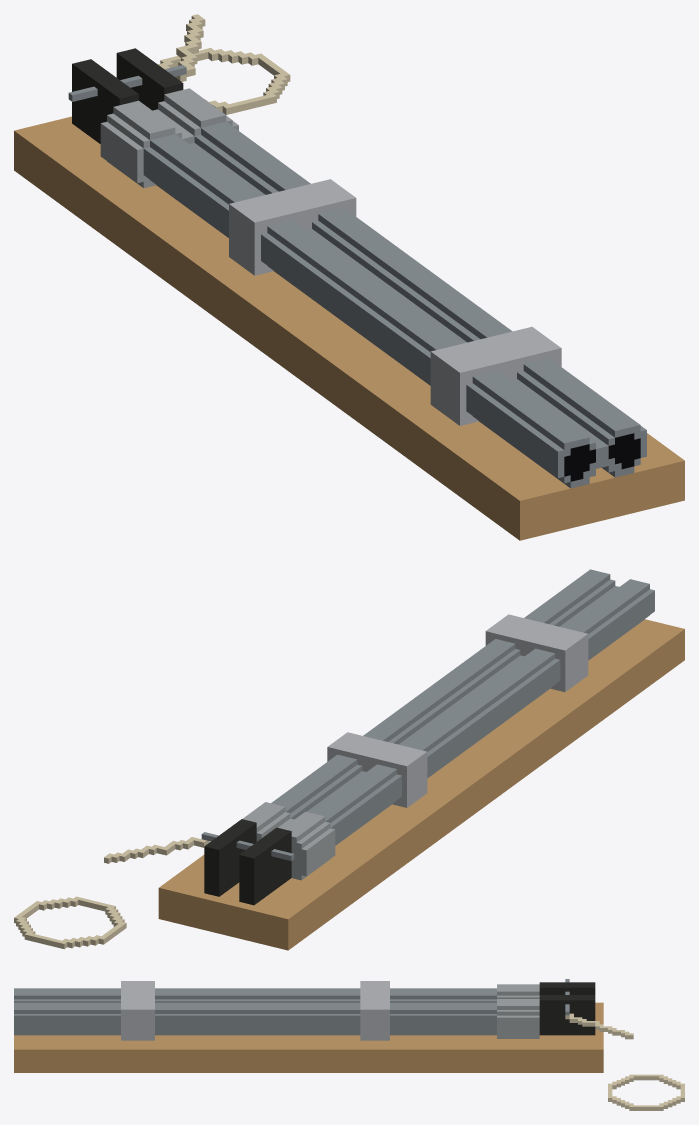
File: shotgun_trap.glb
The picture shows the model from 3 angles, top to bottom: view 1: azimuth 30°, elevation 25°; view 2: azimuth 150°, elevation 25°; view 3: azimuth 270°, elevation 25°; orthographic projection. The views are drawn at different scales.
Visible parts, largest first — view 1: shotgun_trap:compound; view 2: shotgun_trap:compound; view 3: shotgun_trap:compound.
Boxes of the visible parts, x1=… form: shotgun_trap:compound: x1=14, y1=14, x2=684, y2=540; shotgun_trap:compound: x1=14, y1=569, x2=684, y2=950; shotgun_trap:compound: x1=14, y1=979, x2=684, y2=1110.
Size of the model in its own units: 0.188 by 0.06 by 0.628.
